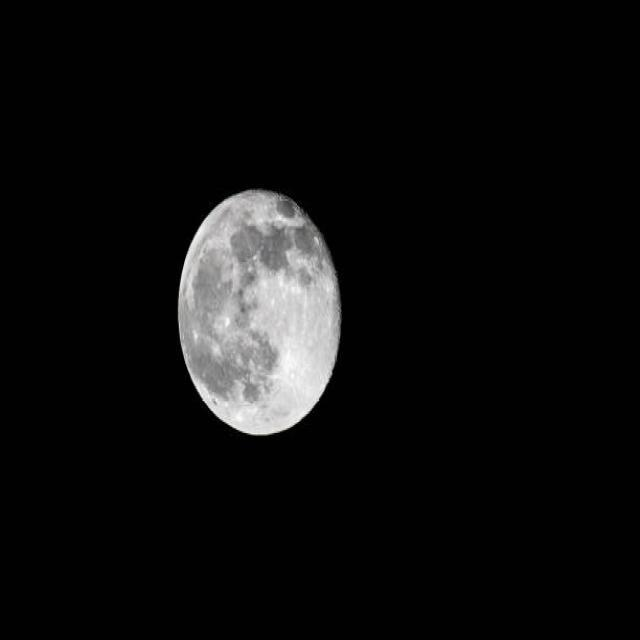moon: (174, 177, 343, 436)
